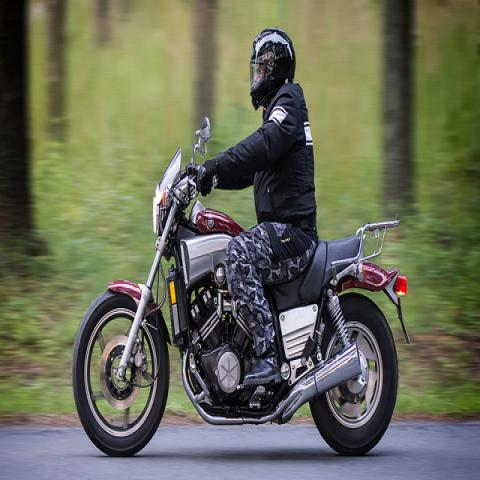motorcycle: (74, 119, 414, 456)
